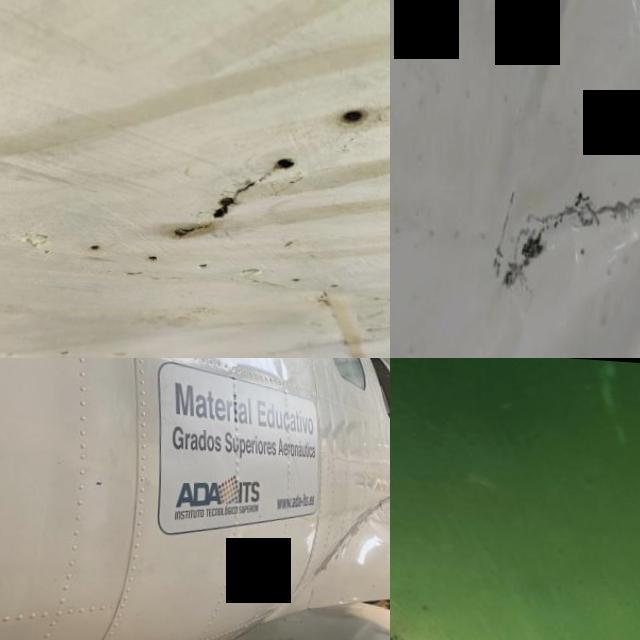Crack: (162, 133, 304, 250), (305, 577, 328, 610), (379, 484, 390, 497)
Dent: (523, 0, 575, 122), (390, 588, 477, 640)
